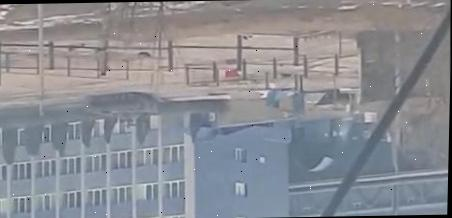tank: (84, 92, 159, 124), (314, 86, 354, 118)
